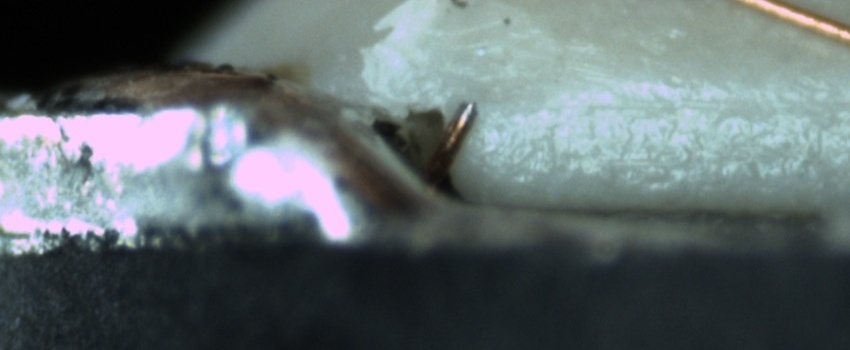DL: (541, 73, 849, 133)
